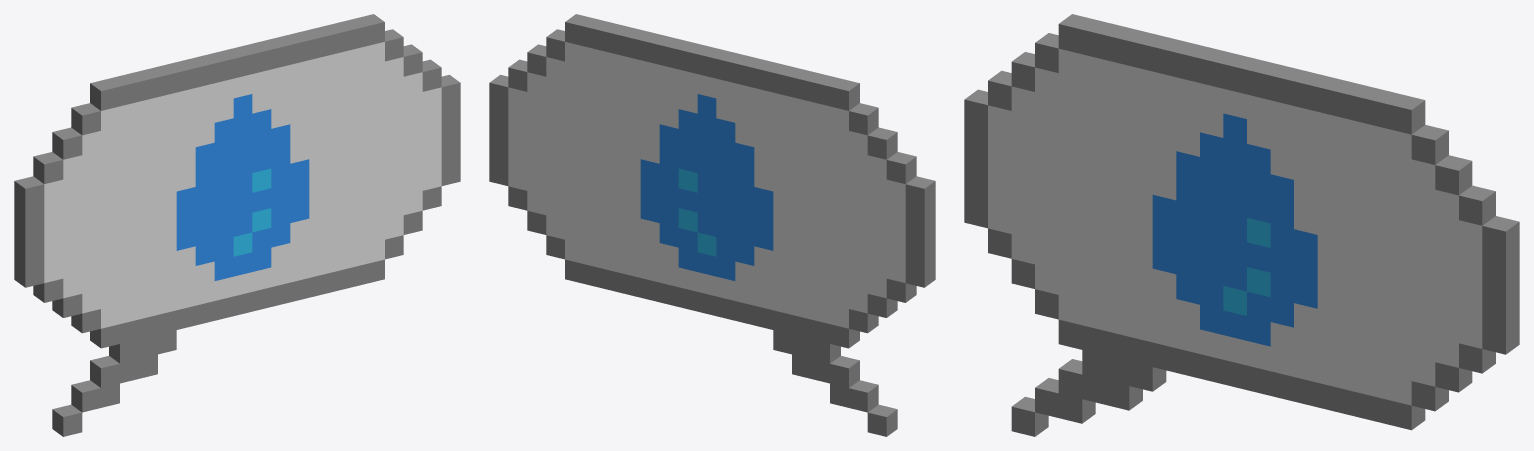
3 renders of one model, left to right at view 1: azimuth 30°, elevation 25°; view 2: azimuth 150°, elevation 25°; view 3: azimuth 330°, elevation 25°, orthographic. The views are drawn at different scales.
Visible parts, largest first — view 1: 水滴; view 2: 水滴; view 3: 水滴.
Boxes of the visible parts, left/top/right/bottom form: 水滴: left=14, top=14, right=460, bottom=436; 水滴: left=489, top=14, right=935, bottom=436; 水滴: left=964, top=14, right=1519, bottom=436.
Size of the model in its own units: 23 by 17 by 1.
